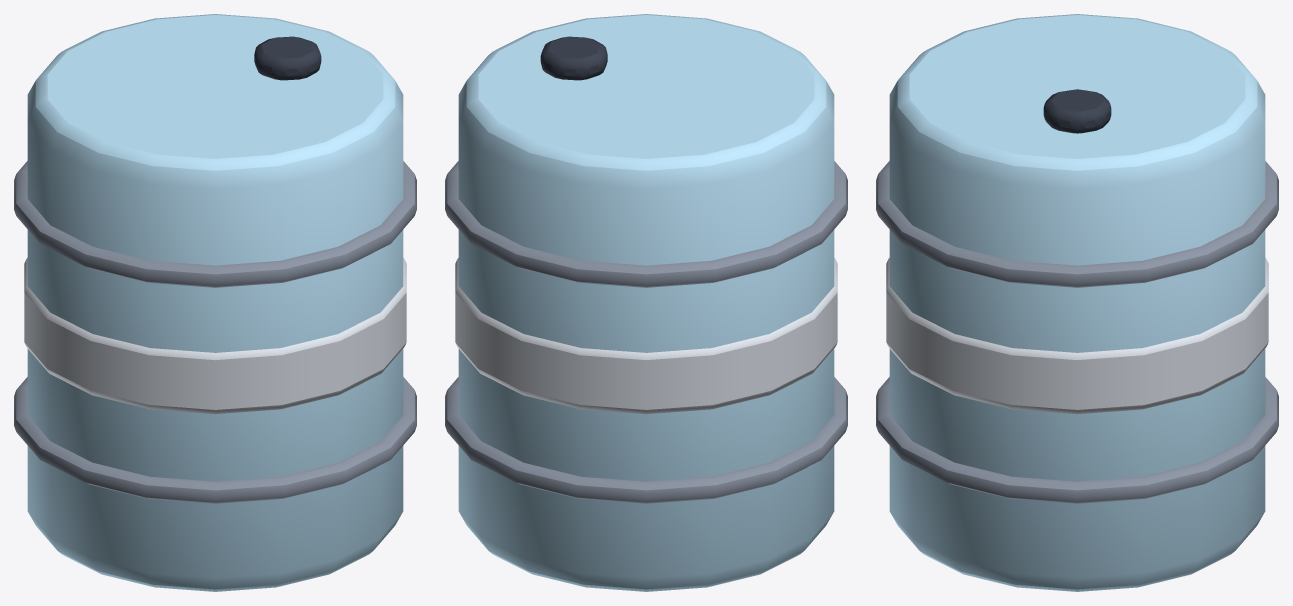
File: ware_reinwasser.fbx
The picture shows the model from 3 angles, left to right: view 1: azimuth 30°, elevation 25°; view 2: azimuth 150°, elevation 25°; view 3: azimuth 270°, elevation 25°; orthographic projection.
Visible parts, largest first — view 1: ware_reinwasser_Koerper; view 2: ware_reinwasser_Koerper; view 3: ware_reinwasser_Koerper.
Boxes of the visible parts, x1,y1,x2,y2 form: ware_reinwasser_Koerper: [14, 14, 416, 591]; ware_reinwasser_Koerper: [445, 14, 847, 591]; ware_reinwasser_Koerper: [876, 14, 1278, 591].
Size of the model in its own units: 0.3432 by 0.42 by 0.338.
